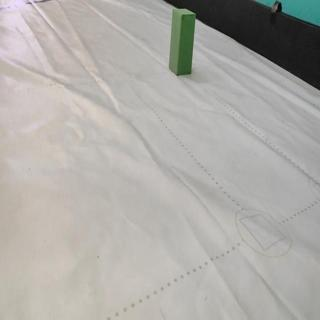greenbox: (167, 7, 196, 77)
